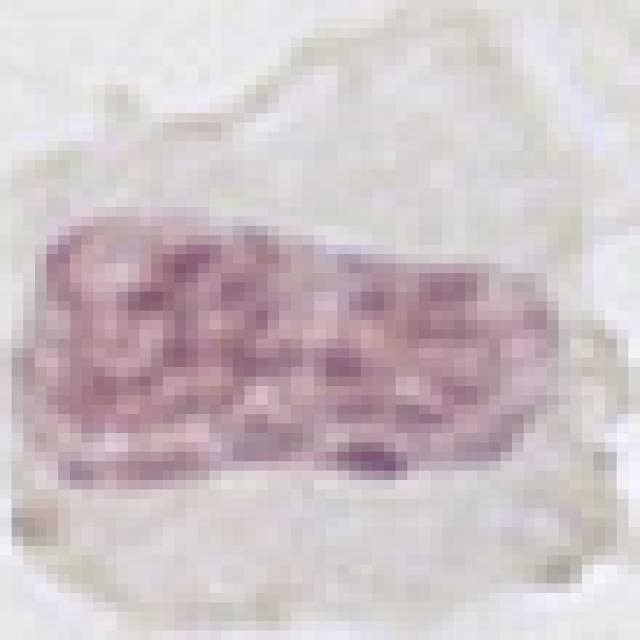nucleus: (10, 207, 558, 489)
